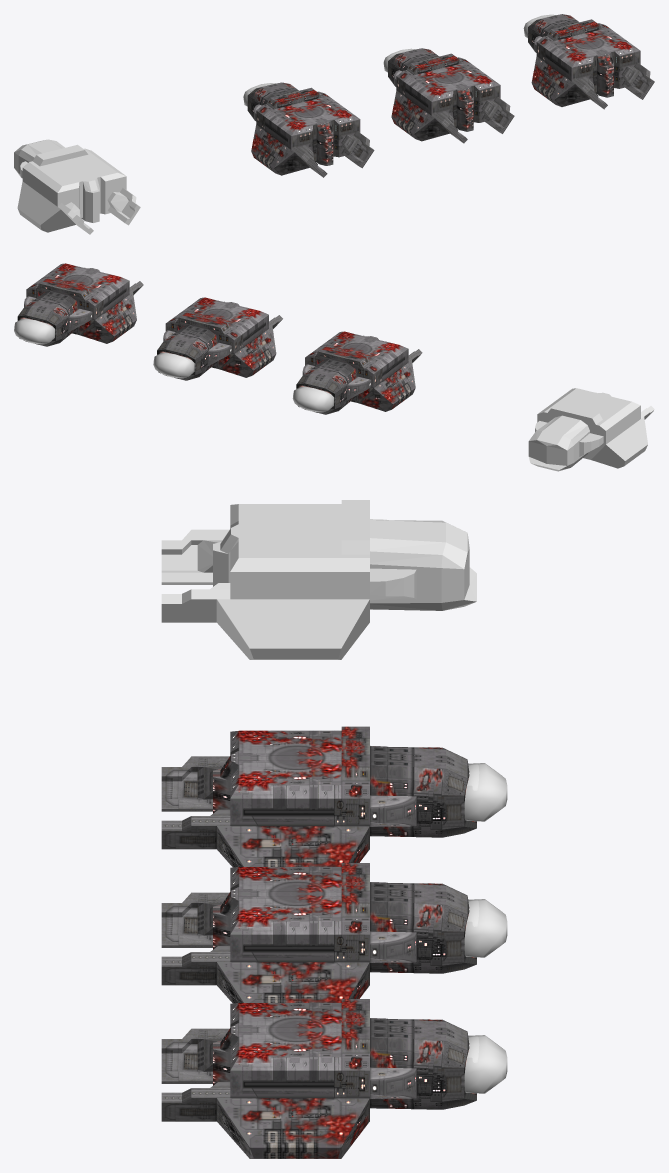
File: bst_smt_destroyer.DAE
The picture shows the model from 3 angles, top to bottom: view 1: azimuth 30°, elevation 25°; view 2: azimuth 150°, elevation 25°; view 3: azimuth 270°, elevation 25°; orthographic projection. The views are drawn at different scales.
Parts seen in each view (by area): view 1: MULT[root_mesh]_LOD[0], COL[Root], MULT[root_mesh]_LOD[2], MULT[root_mesh]_LOD[1]; view 2: COL[Root], MULT[root_mesh]_LOD[1], MULT[root_mesh]_LOD[0], MULT[root_mesh]_LOD[2], GLOW[EngineGlow5_LOD0]_LOD[1], GLOW[EngineGlow2_LOD0]_LOD[0], GLOW[EngineGlow8_LOD0]_LOD[2]; view 3: COL[Root], MULT[root_mesh]_LOD[2], MULT[root_mesh]_LOD[0], MULT[root_mesh]_LOD[1], GLOW[EngineGlow2_LOD0]_LOD[0], GLOW[EngineGlow5_LOD0]_LOD[1], GLOW[EngineGlow8_LOD0]_LOD[2].
Part boxes in pixels (x1,y1,x2,y2): MULT[root_mesh]_LOD[0]: (247, 82, 374, 177); COL[Root]: (14, 139, 140, 234); MULT[root_mesh]_LOD[2]: (528, 14, 654, 109); MULT[root_mesh]_LOD[1]: (388, 48, 514, 143); COL[Root]: (528, 388, 654, 471); MULT[root_mesh]_LOD[1]: (157, 297, 282, 380); MULT[root_mesh]_LOD[0]: (296, 331, 422, 414); MULT[root_mesh]_LOD[2]: (17, 263, 143, 346); GLOW[EngineGlow5_LOD0]_LOD[1]: (153, 352, 194, 378); GLOW[EngineGlow2_LOD0]_LOD[0]: (292, 386, 333, 412); GLOW[EngineGlow8_LOD0]_LOD[2]: (14, 318, 54, 344); COL[Root]: (161, 500, 476, 659); MULT[root_mesh]_LOD[2]: (161, 999, 476, 1158); MULT[root_mesh]_LOD[0]: (161, 726, 476, 867); MULT[root_mesh]_LOD[1]: (161, 863, 476, 1003); GLOW[EngineGlow2_LOD0]_LOD[0]: (464, 763, 507, 821); GLOW[EngineGlow5_LOD0]_LOD[1]: (464, 899, 507, 957); GLOW[EngineGlow8_LOD0]_LOD[2]: (464, 1035, 507, 1093).
Size of the model in its own units: 998 by 80.31 by 247.
Materials: 23 (23 with a texture image).
